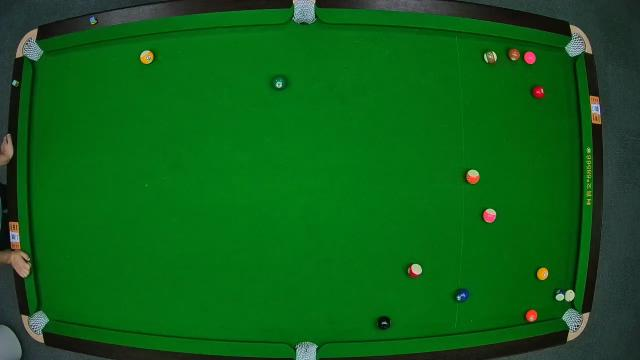bag1: (20, 40, 40, 61)
bag2: (292, 1, 316, 25)
bag3: (566, 35, 588, 55)
bag4: (28, 311, 48, 333)
bag5: (293, 340, 319, 360)
bag6: (562, 308, 582, 332)
ball0: (564, 290, 578, 302)
ball1: (537, 267, 549, 280)
ball10: (552, 289, 566, 303)
ball11: (405, 262, 423, 278)
ball12: (483, 209, 497, 223)
ball13: (465, 168, 481, 184)
ball15: (484, 49, 496, 64)
ball2: (454, 288, 470, 304)
ball3: (532, 85, 548, 99)
ball4: (524, 51, 536, 65)
ball5: (526, 308, 538, 322)
ball6: (271, 75, 289, 91)
ball7: (506, 47, 520, 61)
ball8: (376, 316, 392, 330)
ball9: (139, 49, 155, 65)
